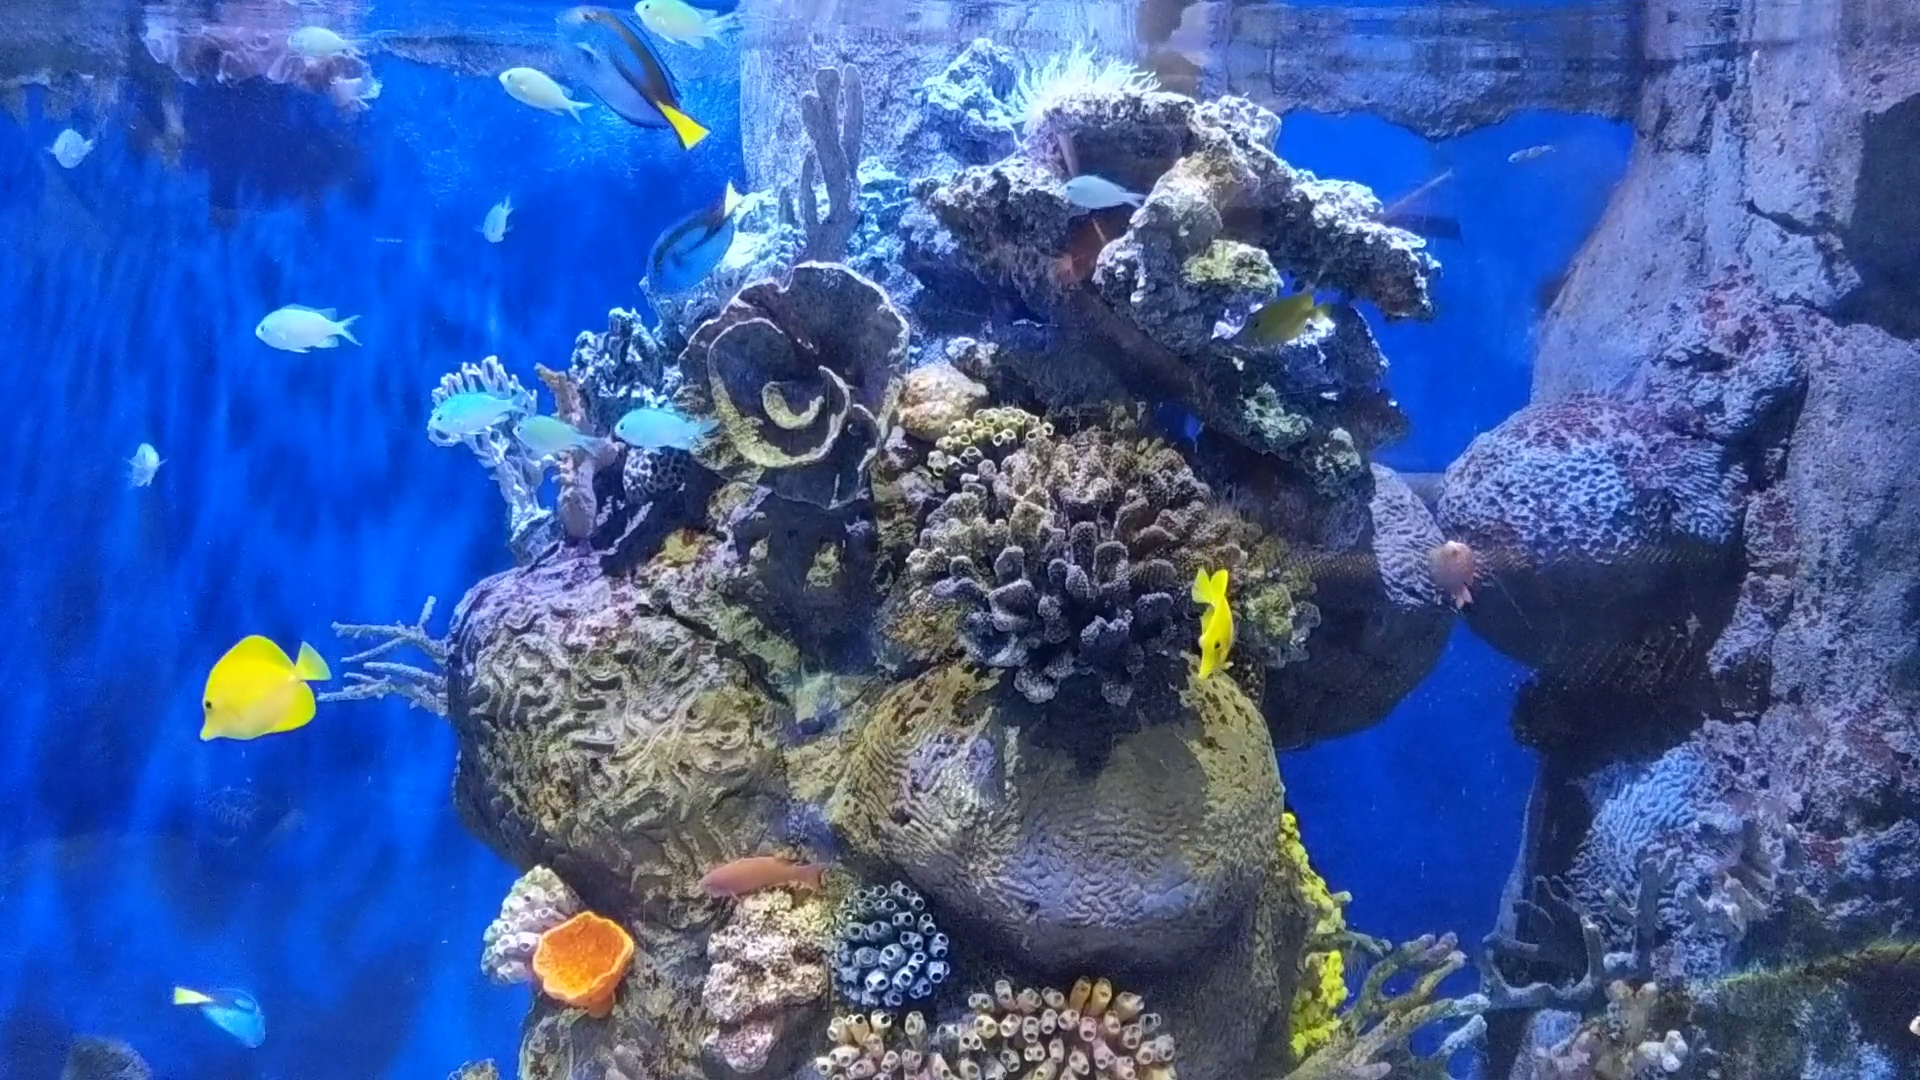blue tang surgeonfish: (553, 1, 713, 164), (154, 959, 276, 1059)
damselfish: (244, 290, 372, 367), (488, 51, 593, 138), (603, 394, 725, 468), (500, 404, 612, 473), (418, 376, 522, 446), (111, 422, 178, 516), (624, 1, 737, 55), (1044, 164, 1145, 219), (276, 17, 372, 65), (44, 117, 105, 175), (462, 191, 520, 245)
pink fish: (1424, 512, 1491, 618)
saddle butterfly fish: (167, 612, 340, 752), (1178, 549, 1242, 682), (1238, 284, 1338, 348)
